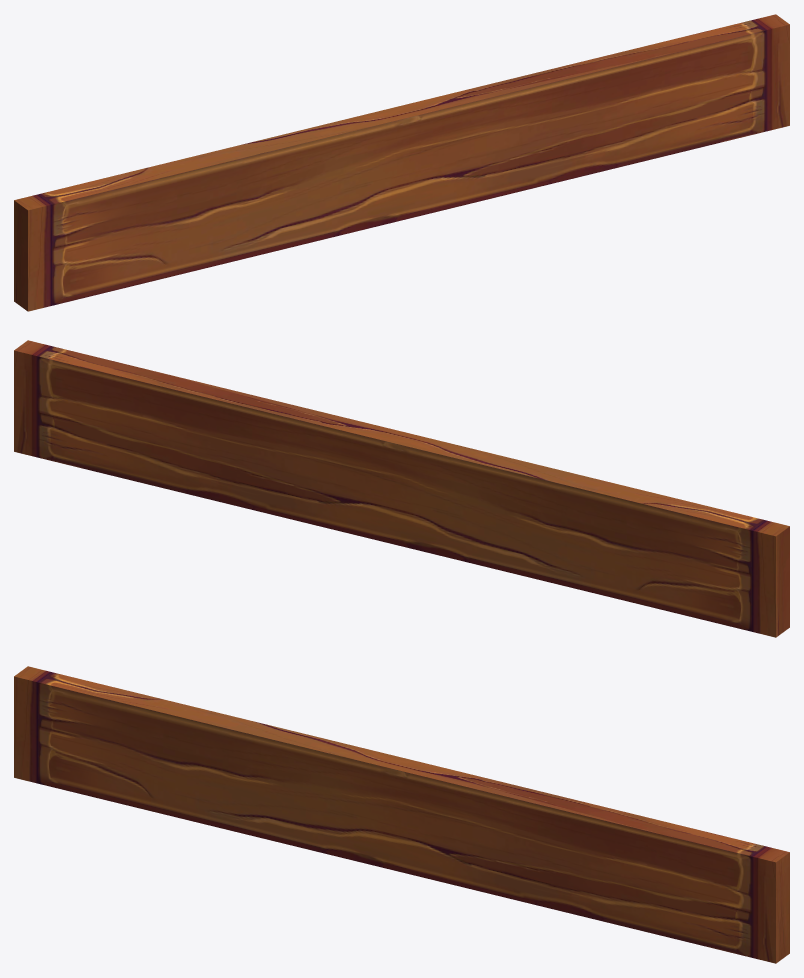
File: fence_wood_04.fbx
3 renders of one model, top to bottom at view 1: azimuth 30°, elevation 25°; view 2: azimuth 150°, elevation 25°; view 3: azimuth 330°, elevation 25°, orthographic.
Visible parts, largest first — view 1: fence_wood_04; view 2: fence_wood_04; view 3: fence_wood_04.
Part boxes in pixels (bbox=[...]): fence_wood_04: bbox=[14, 14, 789, 311]; fence_wood_04: bbox=[14, 340, 789, 637]; fence_wood_04: bbox=[14, 666, 789, 963].
Bounding box in the file's own units: 315 × 40 × 10.03.
